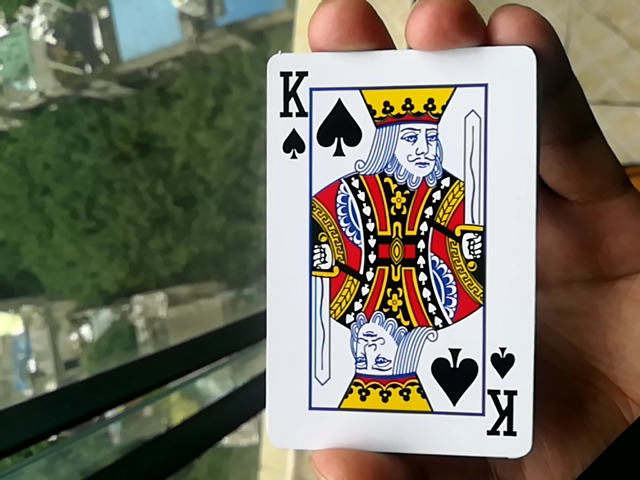ht k: (254, 50, 532, 462)
